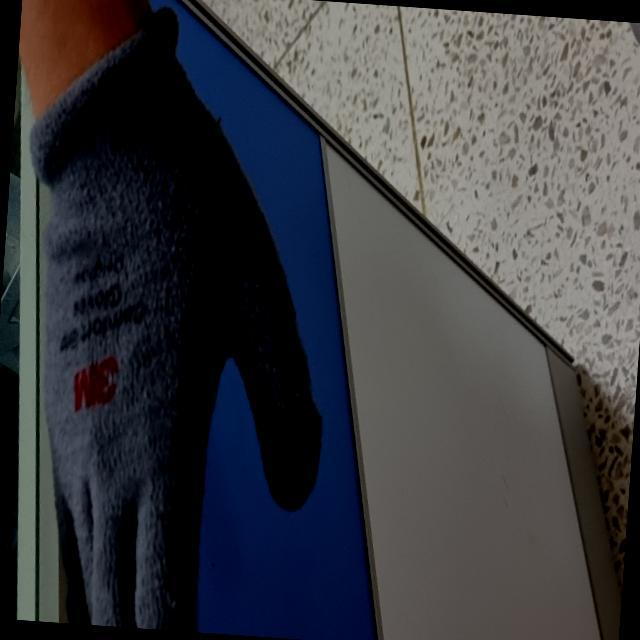Gloves: (31, 14, 312, 630)
